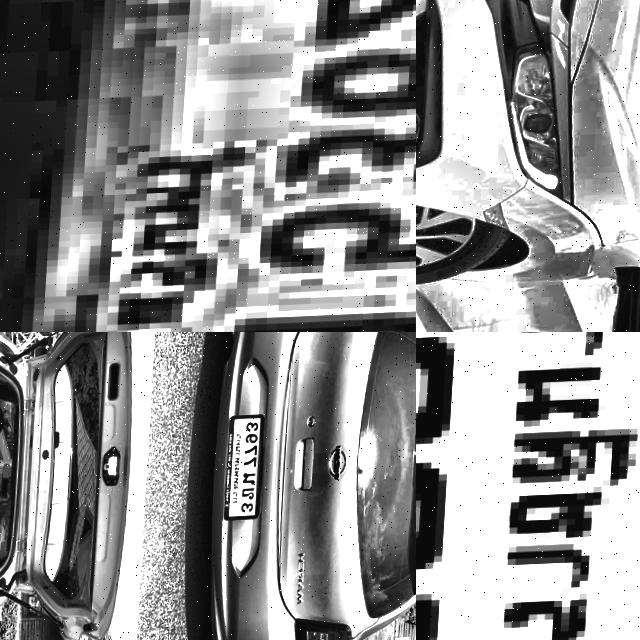license-plate: (0, 0, 416, 332), (416, 332, 640, 640), (224, 413, 278, 524)
